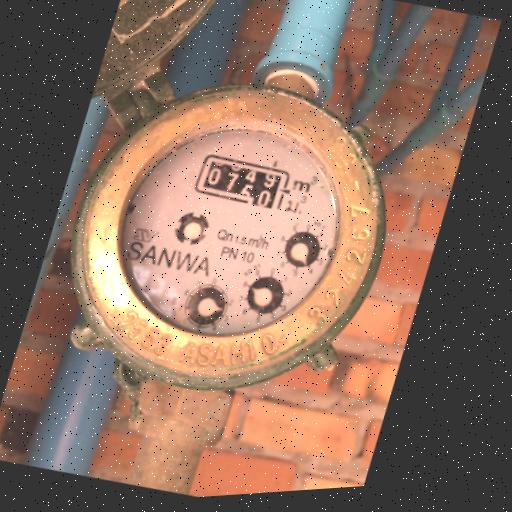0: (202, 159, 228, 192)
4: (235, 166, 263, 200)
7: (219, 163, 246, 195)
9: (251, 170, 282, 210)
border_water_meter_number: (190, 146, 299, 219)
